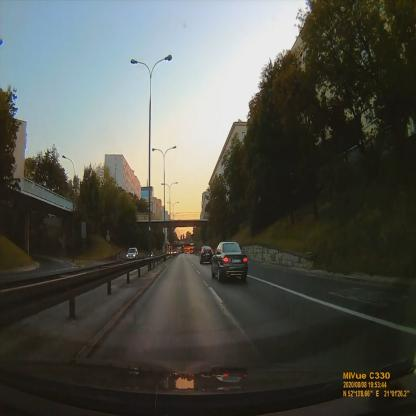cars: (211, 242, 248, 281), (199, 246, 214, 264), (126, 248, 139, 260)
